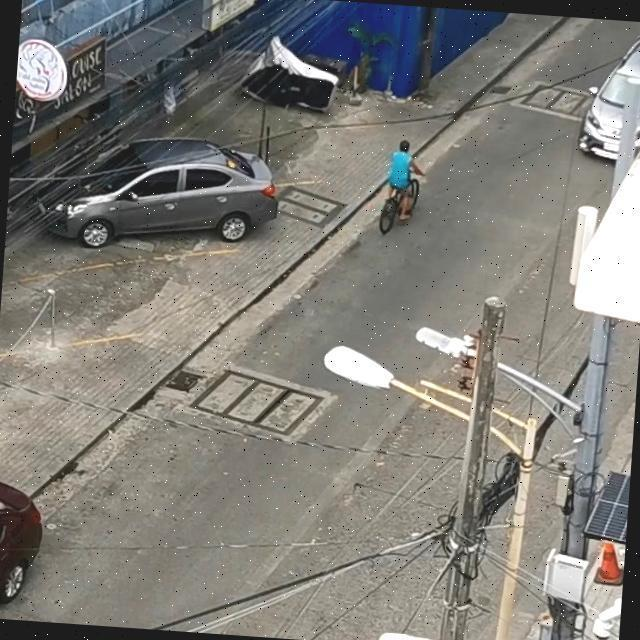Bike: (340, 110, 458, 260)
